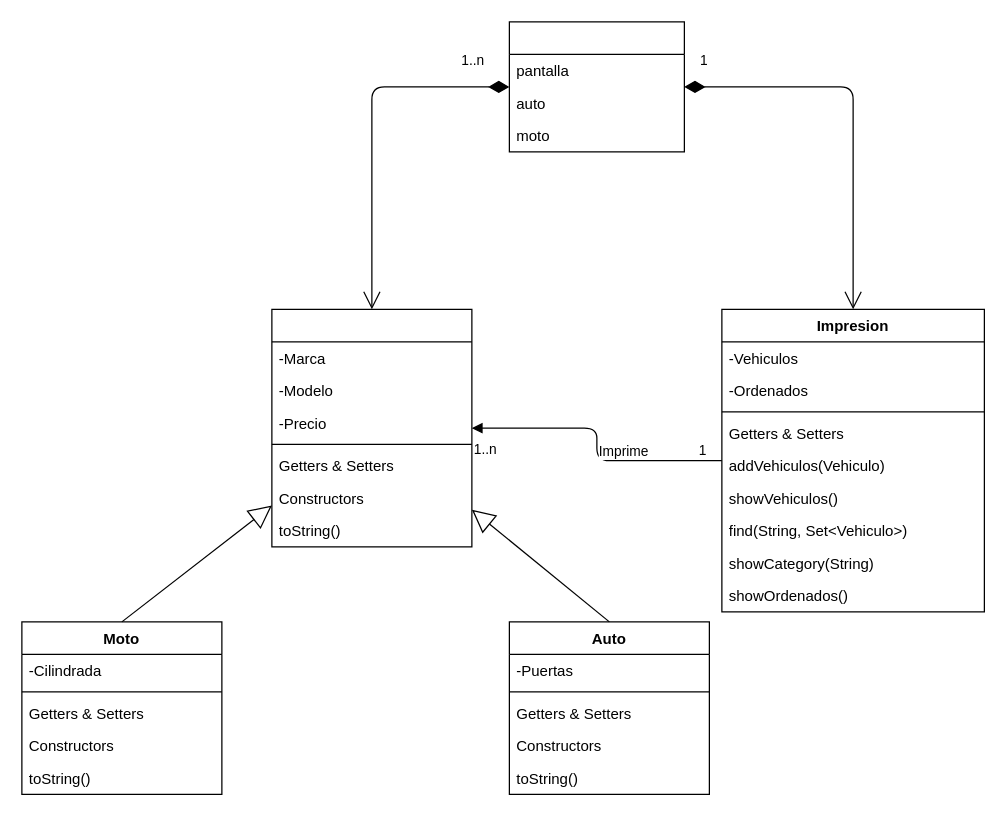
The diagram is 1006 pixels wide and 820 high, and some of its shapes have lost their labels. Here are the shapes that lost their labels. From the top down, the box of each, then its label:
(508, 21, 684, 152): App
(271, 308, 472, 547): Vehiculo
